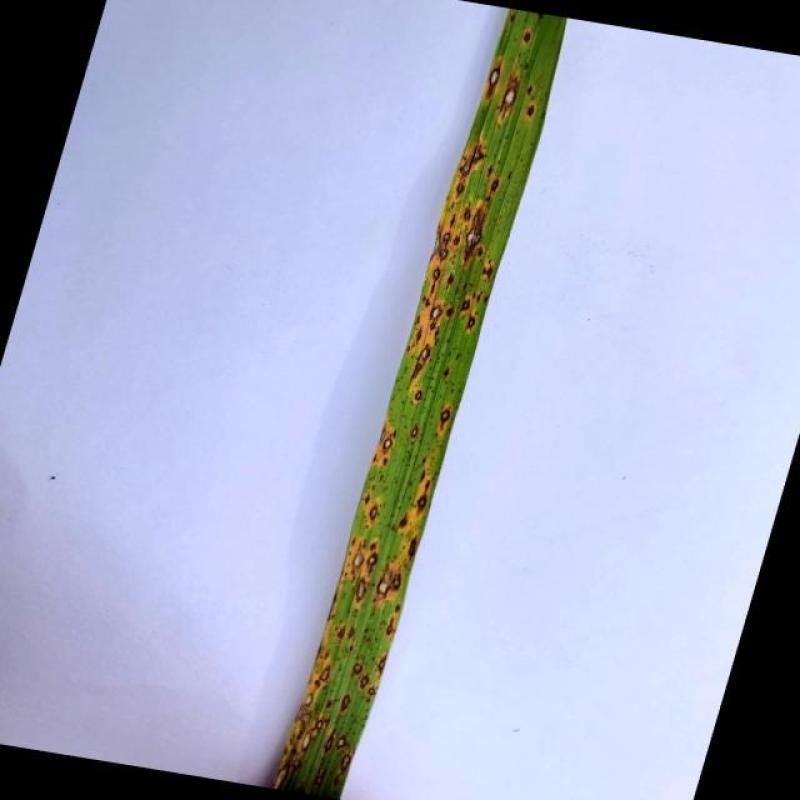Leaf_Blast: (462, 209, 488, 266), (408, 342, 432, 382), (500, 79, 519, 119), (488, 62, 503, 100), (427, 224, 442, 262), (295, 708, 313, 739), (325, 588, 341, 622), (376, 571, 392, 601), (351, 543, 366, 575), (353, 575, 368, 606), (436, 404, 452, 431), (458, 155, 474, 180), (272, 765, 288, 790), (324, 728, 338, 756), (472, 142, 488, 166), (388, 571, 404, 594), (376, 654, 389, 680), (366, 552, 380, 576), (338, 693, 352, 715), (522, 103, 538, 122), (408, 532, 418, 562), (300, 731, 314, 750), (381, 434, 394, 454), (428, 304, 444, 320), (340, 750, 352, 771), (463, 202, 475, 222), (483, 262, 495, 282), (332, 771, 344, 791), (416, 496, 429, 514), (366, 505, 379, 523), (385, 616, 395, 639), (318, 666, 332, 682), (522, 30, 534, 48), (490, 176, 502, 194), (398, 512, 410, 530), (455, 180, 465, 201), (445, 270, 455, 291), (336, 734, 348, 750), (449, 211, 458, 231), (439, 246, 450, 262), (409, 424, 420, 440), (315, 769, 325, 786), (359, 675, 371, 689), (445, 303, 456, 318), (466, 314, 475, 332), (416, 326, 425, 344), (335, 625, 346, 639), (351, 662, 362, 676), (305, 692, 316, 706), (460, 297, 470, 312), (432, 266, 442, 280), (362, 491, 372, 505), (430, 282, 439, 297), (419, 471, 429, 484), (526, 84, 535, 98), (412, 390, 423, 401), (348, 625, 356, 640), (368, 685, 378, 697), (380, 457, 390, 468), (370, 542, 381, 552), (294, 759, 304, 770), (315, 720, 324, 732), (452, 234, 460, 247), (482, 295, 492, 305), (476, 247, 485, 258), (424, 480, 431, 494), (441, 233, 451, 242), (475, 294, 484, 304), (425, 298, 433, 308), (429, 320, 436, 331), (422, 295, 428, 304), (395, 604, 400, 614)
